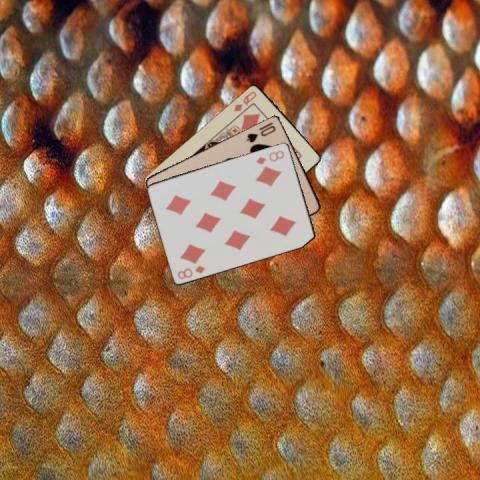10s: (244, 122, 277, 144)
8d: (253, 148, 286, 166), (174, 262, 206, 280)
Qd: (231, 88, 258, 113)
